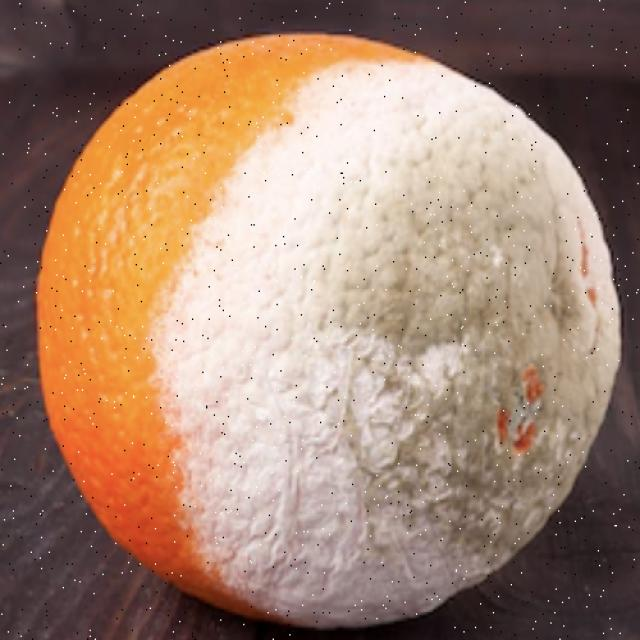Organik: (20, 11, 640, 638)
